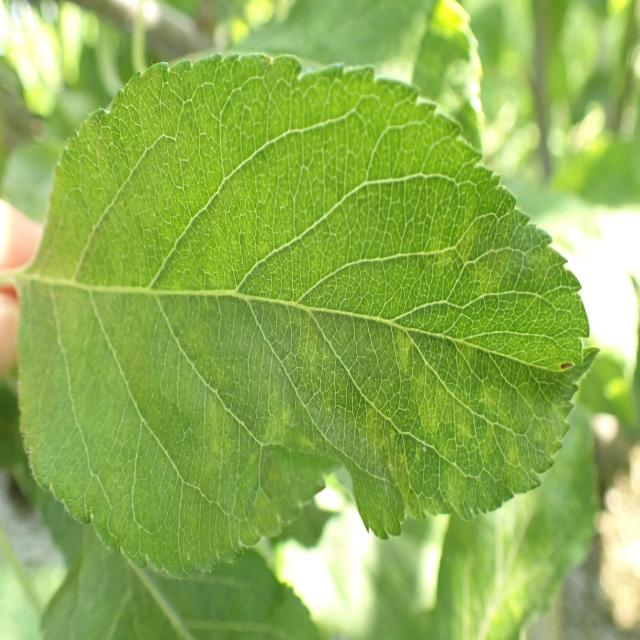scab: (50, 107, 586, 530)
